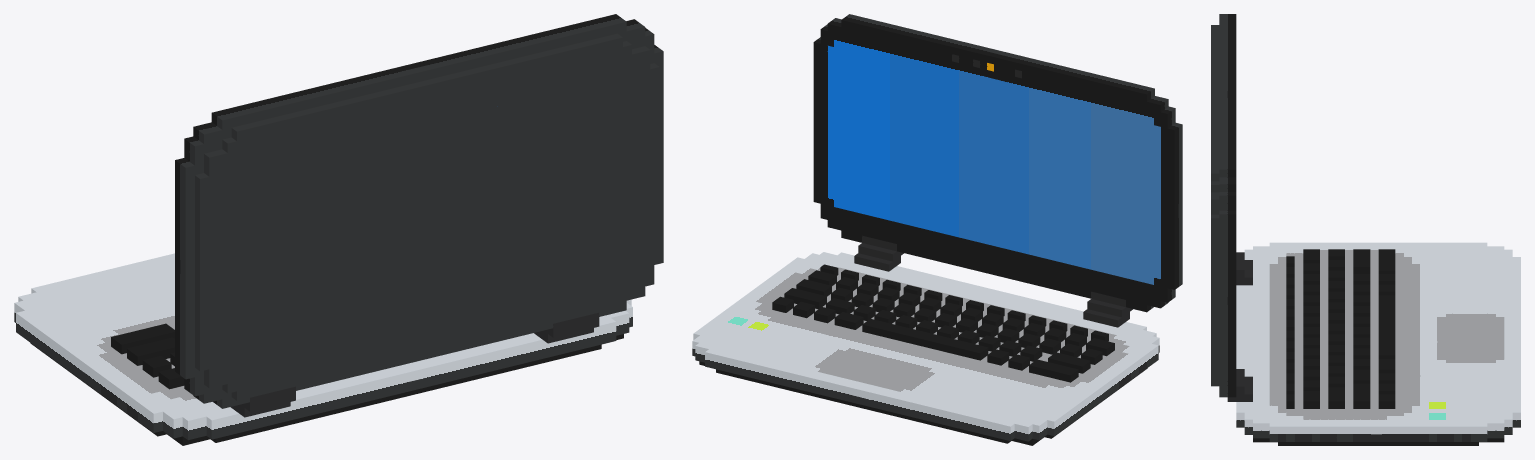
The model's file is 笔记本电脑.gltf.
The picture shows the model from 3 angles, left to right: view 1: azimuth 30°, elevation 25°; view 2: azimuth 150°, elevation 25°; view 3: azimuth 270°, elevation 25°; orthographic projection. The views are drawn at different scales.
Parts seen in each view (by area): view 1: Object; view 2: Object; view 3: Object.
Boxes of the visible parts, x1=… form: Object: x1=14, y1=14, x2=663, y2=445; Object: x1=692, y1=14, x2=1182, y2=445; Object: x1=1211, y1=14, x2=1520, y2=445.
Size of the model in its own units: 52 by 35 by 37.
Materials: 1 (1 with a texture image).
